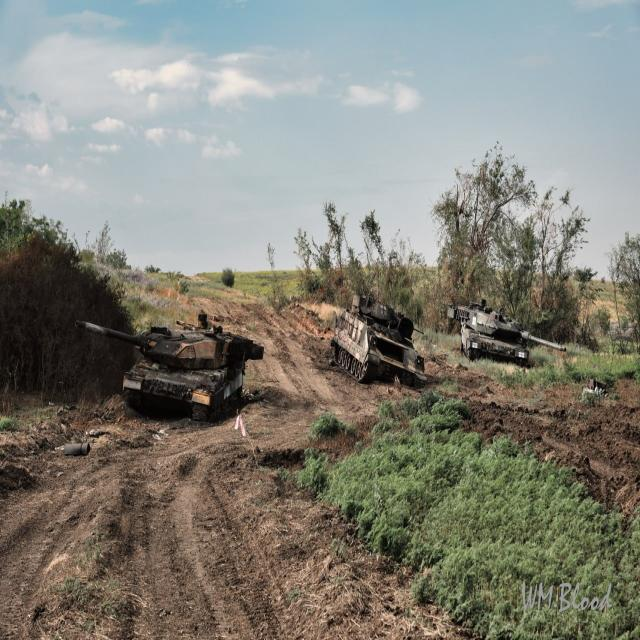AIFV: (330, 293, 431, 394)
MBT: (73, 311, 267, 422), (447, 297, 570, 367)
